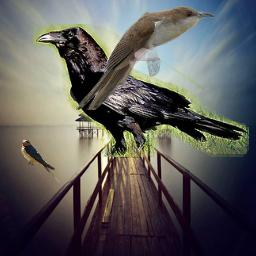Crow: (33, 24, 249, 157)
Cuckoo: (76, 6, 214, 110)
Swallow: (21, 139, 60, 183)
